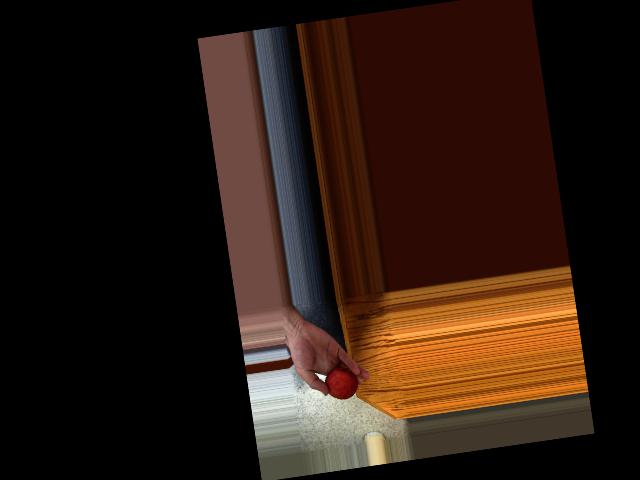apple: (321, 360, 360, 403)
